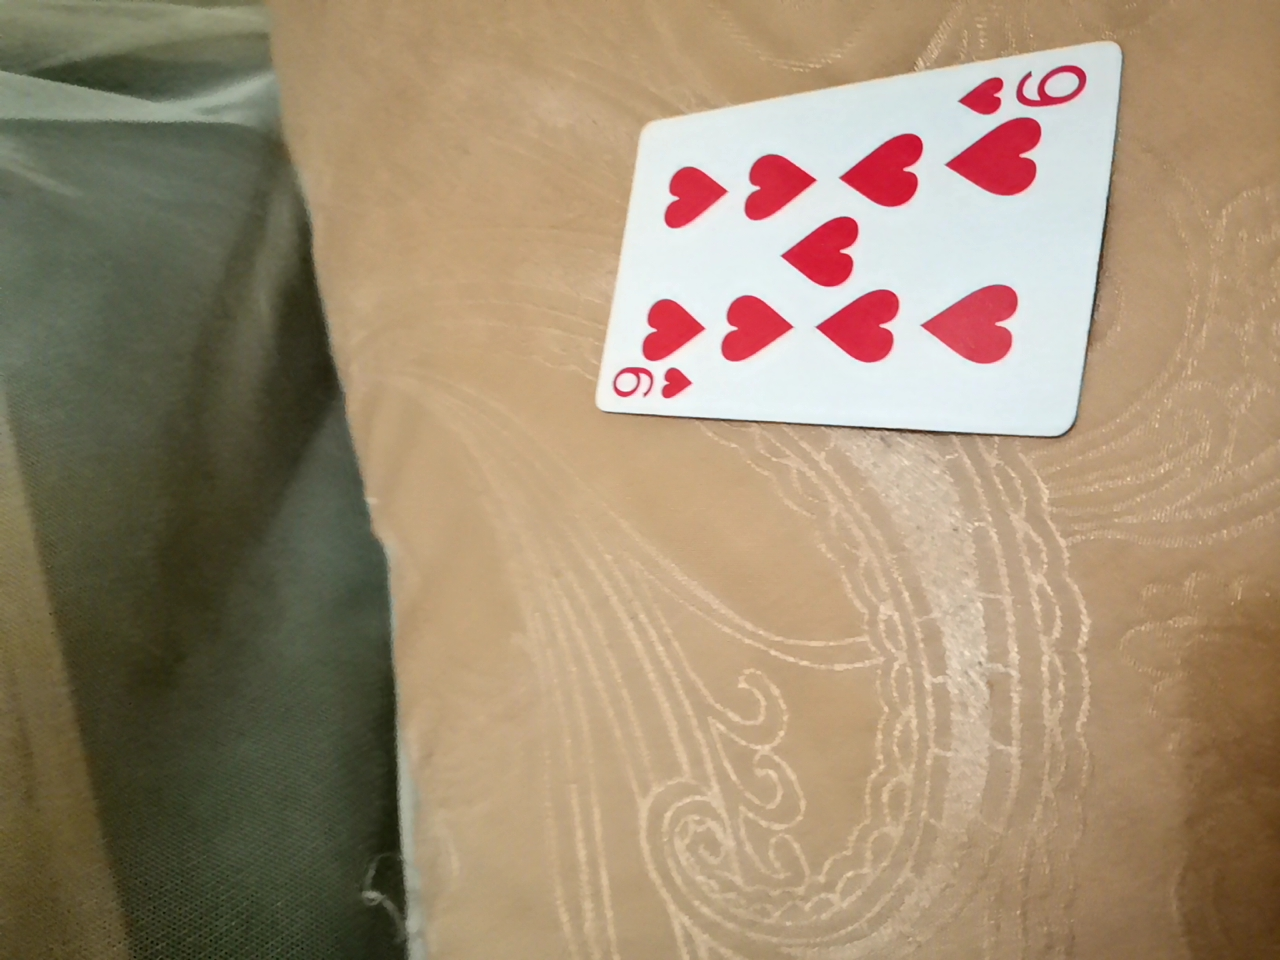hx 9: (583, 13, 1089, 432)
